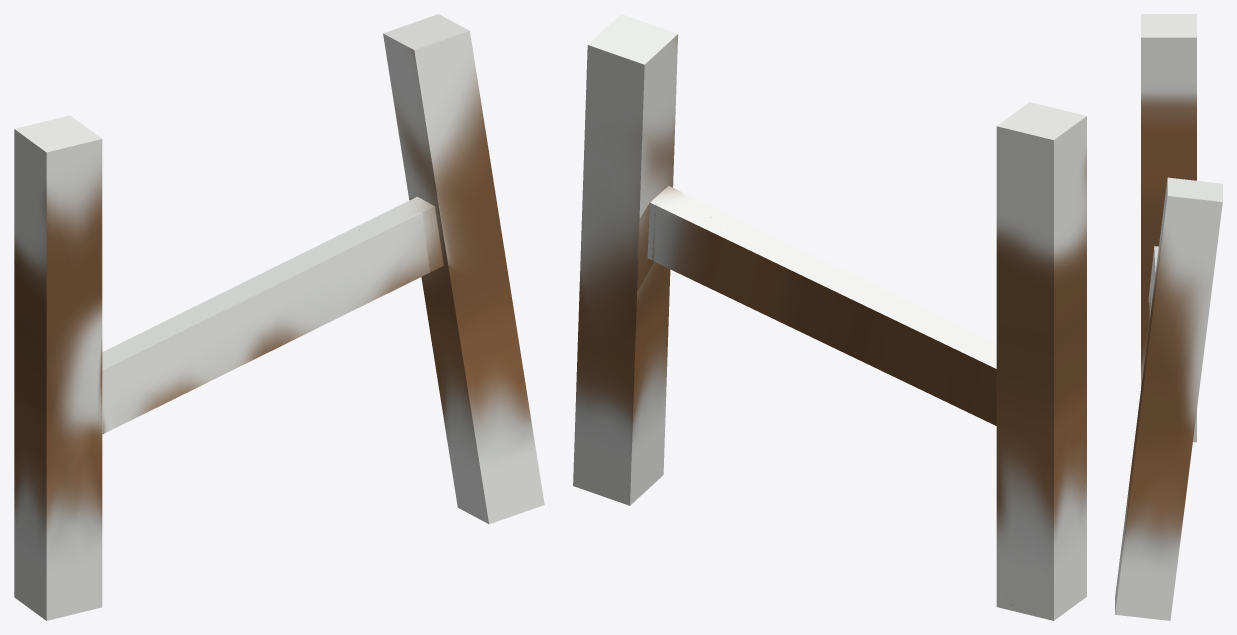
The model's file is fence_crooked.glb.
3 renders of one model, left to right at view 1: azimuth 30°, elevation 25°; view 2: azimuth 150°, elevation 25°; view 3: azimuth 270°, elevation 25°, orthographic. The views are drawn at different scales.
Visible parts, largest first — view 1: Cube.002; view 2: Cube.002; view 3: Cube.002.
Part boxes in pixels (box(x1,y1,x2,y2)): Cube.002: box(14, 14, 544, 620); Cube.002: box(573, 14, 1086, 620); Cube.002: box(1115, 14, 1222, 620).
Bounding box in the file's own units: 4.16 × 3.91 × 0.9285.
Materials: 1 (1 with a texture image).
